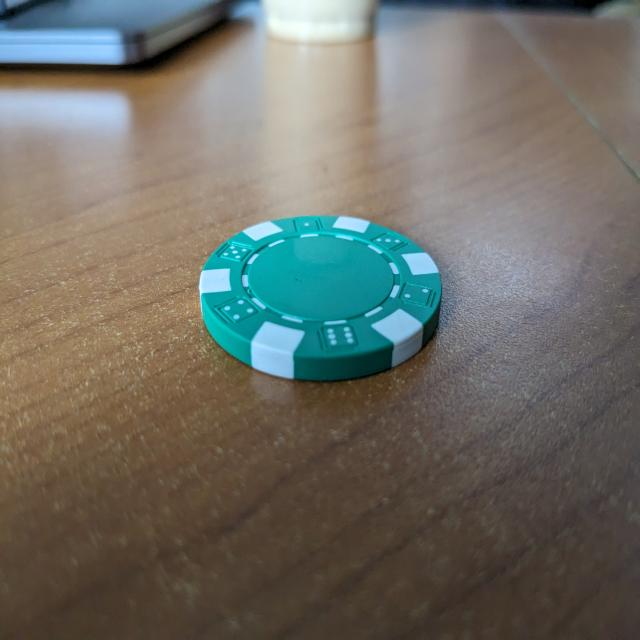green chip: (199, 216, 445, 384)
